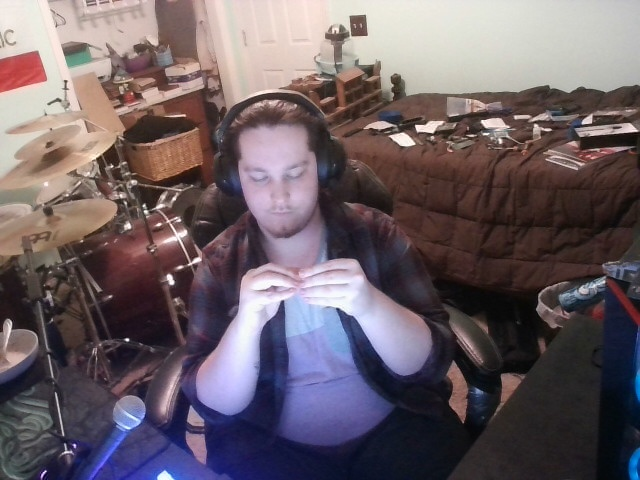more: (220, 254, 379, 333)
